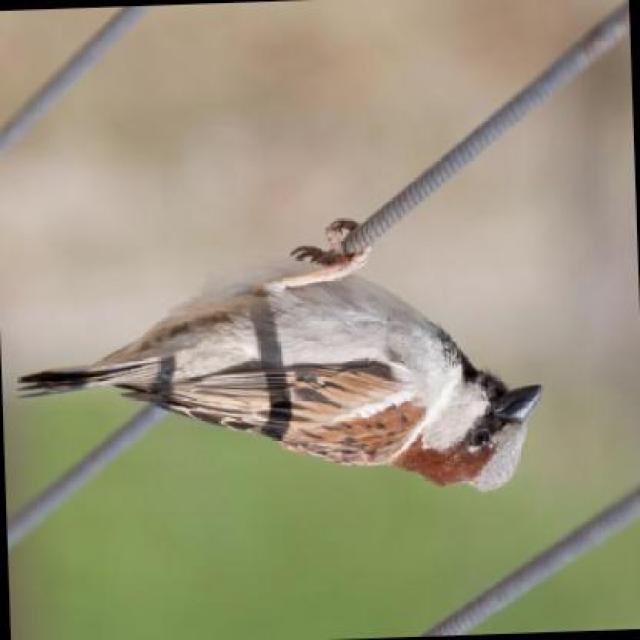Bird: (21, 202, 567, 552)
